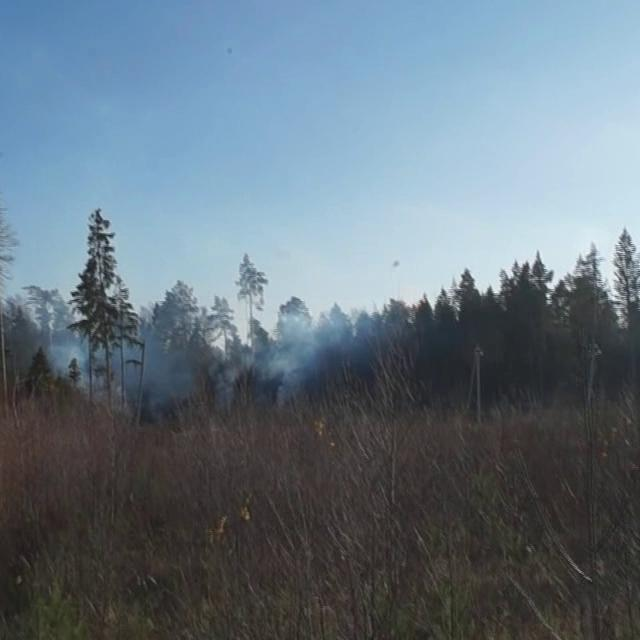Smoke: (24, 300, 364, 431)
